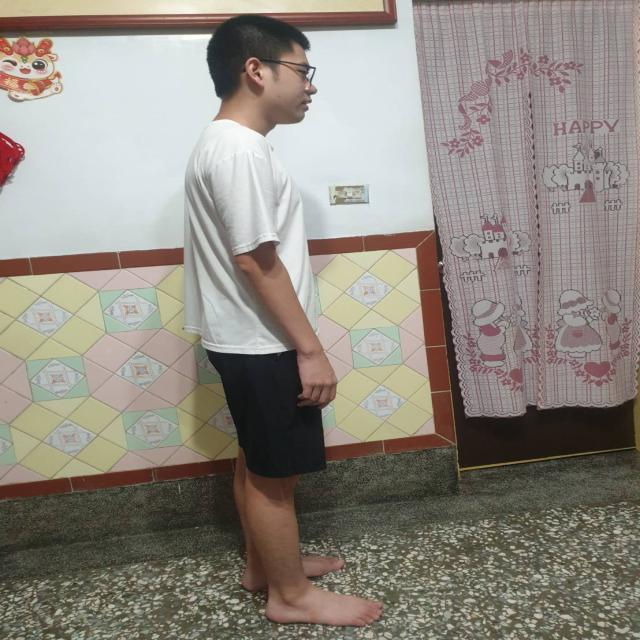stand: (194, 11, 423, 640)
